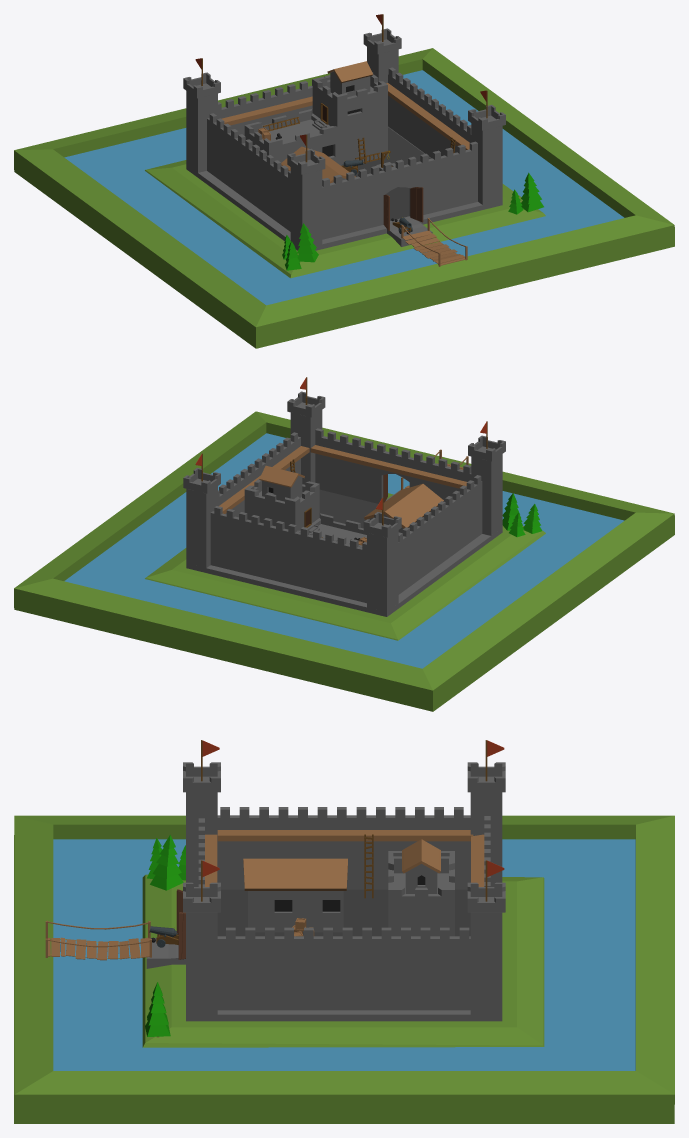
The picture shows the model from 3 angles, top to bottom: view 1: azimuth 30°, elevation 25°; view 2: azimuth 150°, elevation 25°; view 3: azimuth 270°, elevation 25°; orthographic projection. The views are drawn at different scales.
Parts seen in each view (by area): view 1: Castle, trees, Bridge; view 2: Castle, trees; view 3: Castle, Bridge, trees.
Boxes of the visible parts, left/top/right/bottom form: Castle: left=14, top=14, right=674, bottom=348; trees: left=282, top=172, right=543, bottom=270; Bridge: left=387, top=218, right=467, bottom=266; Castle: left=14, top=377, right=674, bottom=711; trees: left=502, top=493, right=542, bottom=537; Castle: left=14, top=740, right=674, bottom=1123; Bridge: left=45, top=920, right=185, bottom=968; trees: left=145, top=835, right=185, bottom=1037.
Bounding box in the file's own units: 4176 × 1283 × 4180.
1 material, 1 textured.
